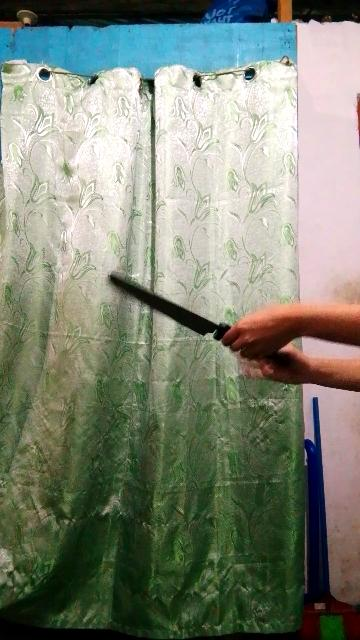long knife: (106, 268, 254, 354)
